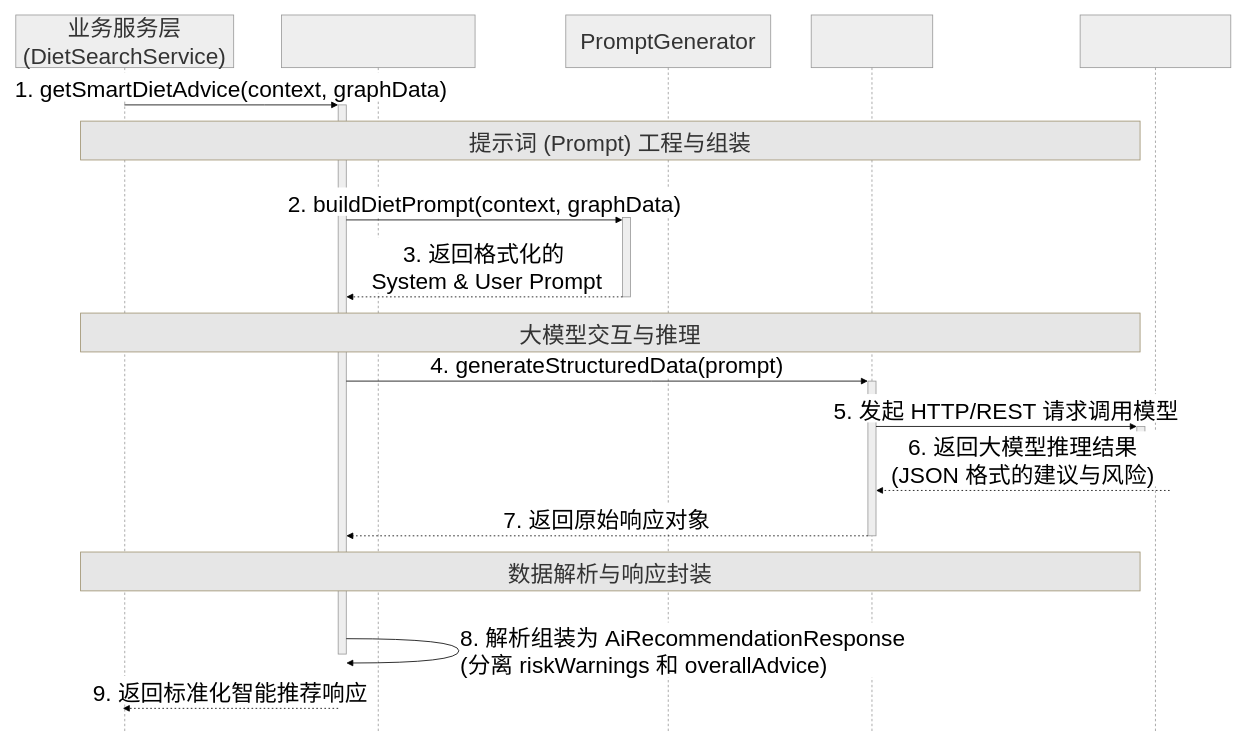
Some shapes in this 1245 by 745 pixel diagram are drawn without their labels. The shapes that lost their labels are listed below. From the top down, each one's box as (x1, y1, x2, y2) in pixels, then its label:
(281, 14, 475, 731): RecipeAiService
(810, 14, 933, 731): LlmClient
(1079, 14, 1231, 731): 大语言模型 (LLM)
